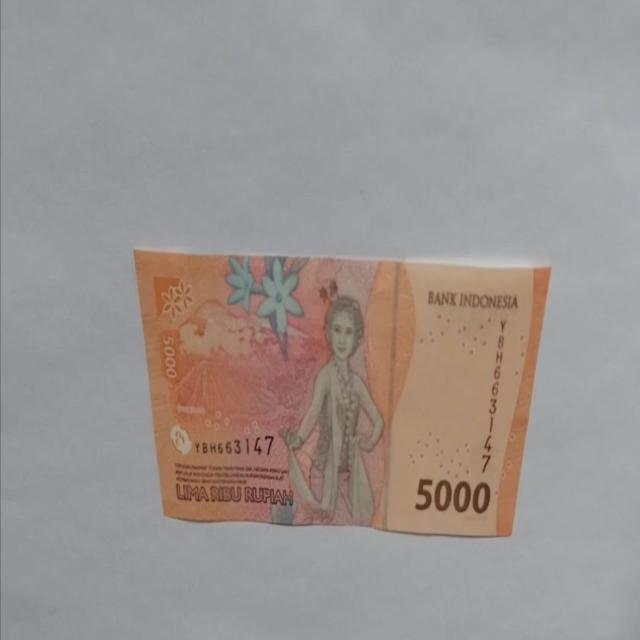lima ribu rupiah: (133, 246, 552, 537), (278, 294, 384, 526)
